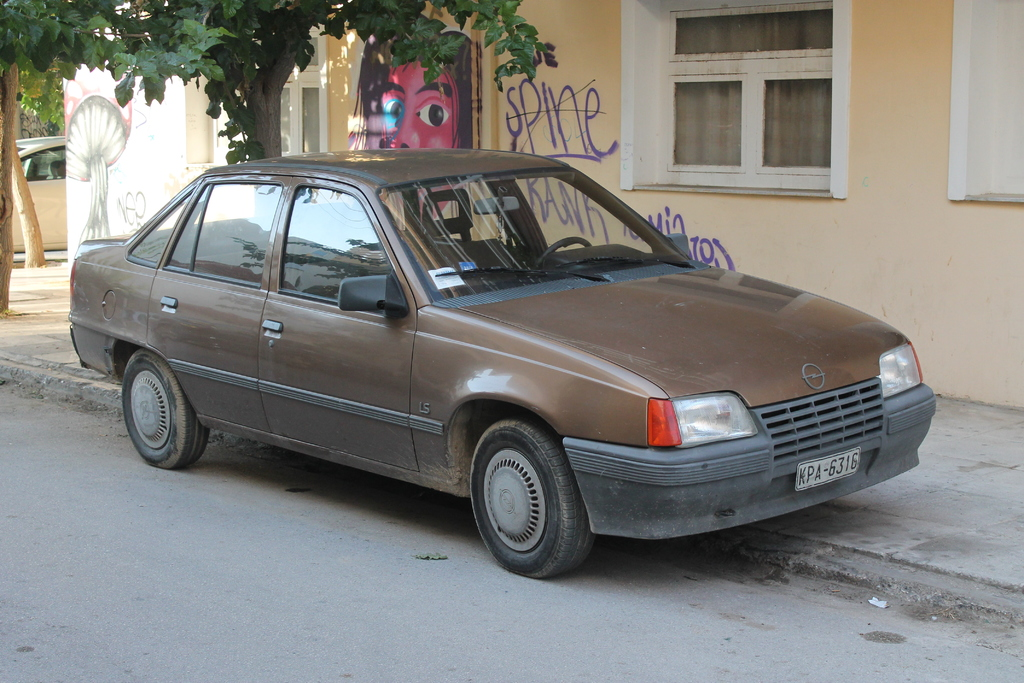Car: (65, 146, 936, 579)
